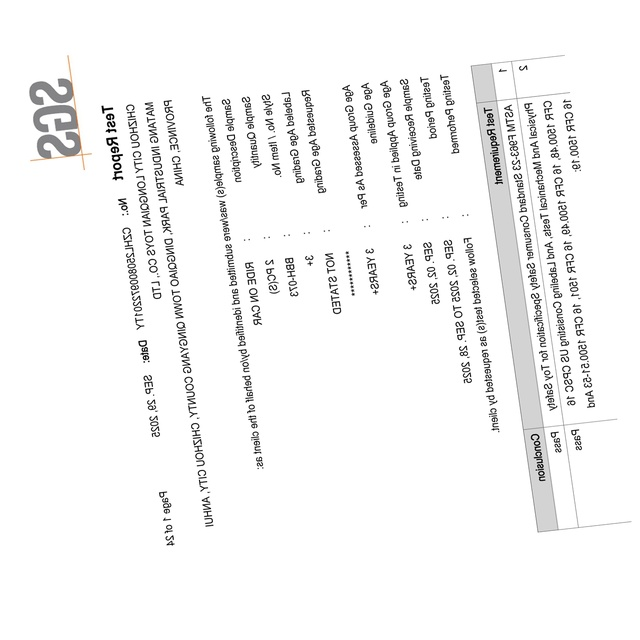sgs: (28, 78, 83, 159)
